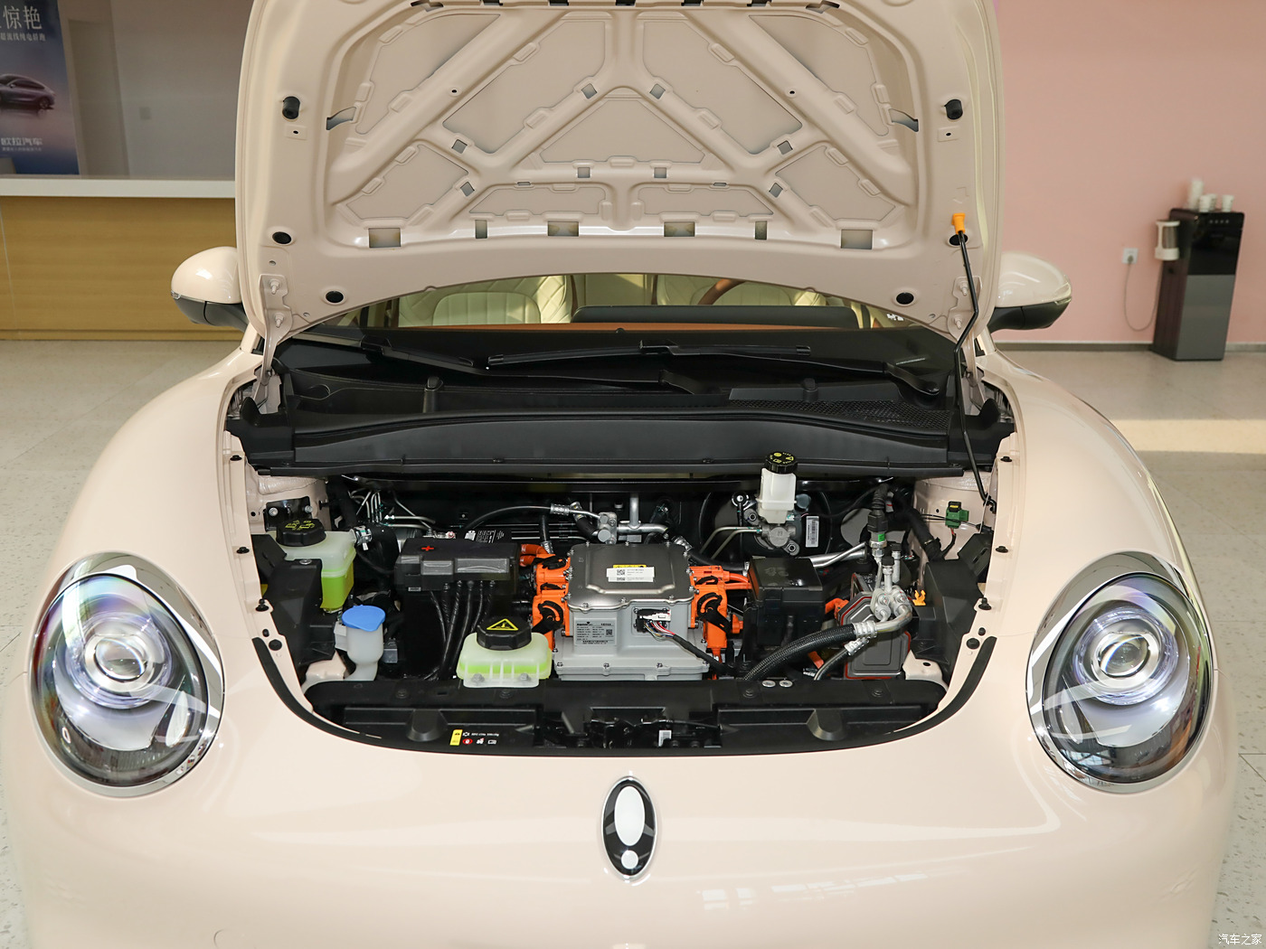ORA: (603, 780, 655, 876)
